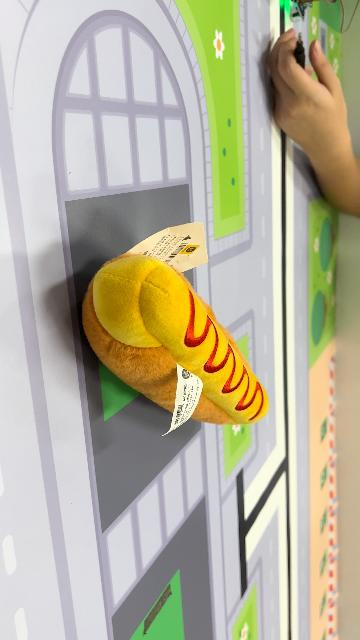hotdog: (82, 254, 272, 428)
